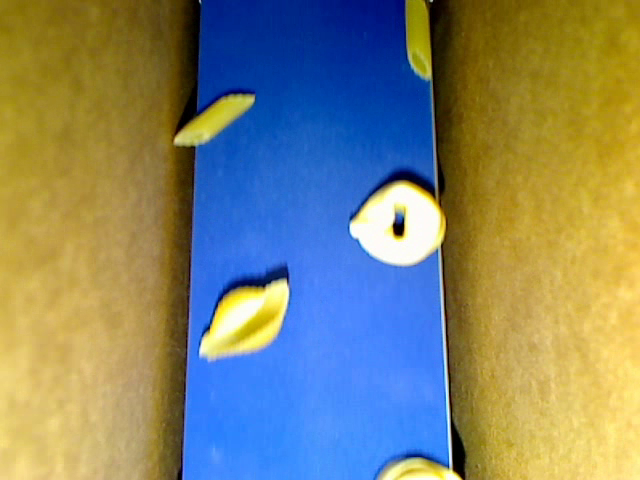penne: (172, 95, 256, 143), (405, 1, 432, 82)
shell: (197, 277, 291, 363)
tortellini: (348, 181, 445, 263), (374, 455, 461, 479)
